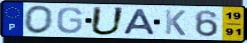6: (194, 9, 220, 38)
A: (121, 8, 158, 36)
G: (56, 6, 84, 34)
K: (164, 8, 188, 37)
O: (23, 4, 55, 35)
U: (88, 5, 127, 36)
